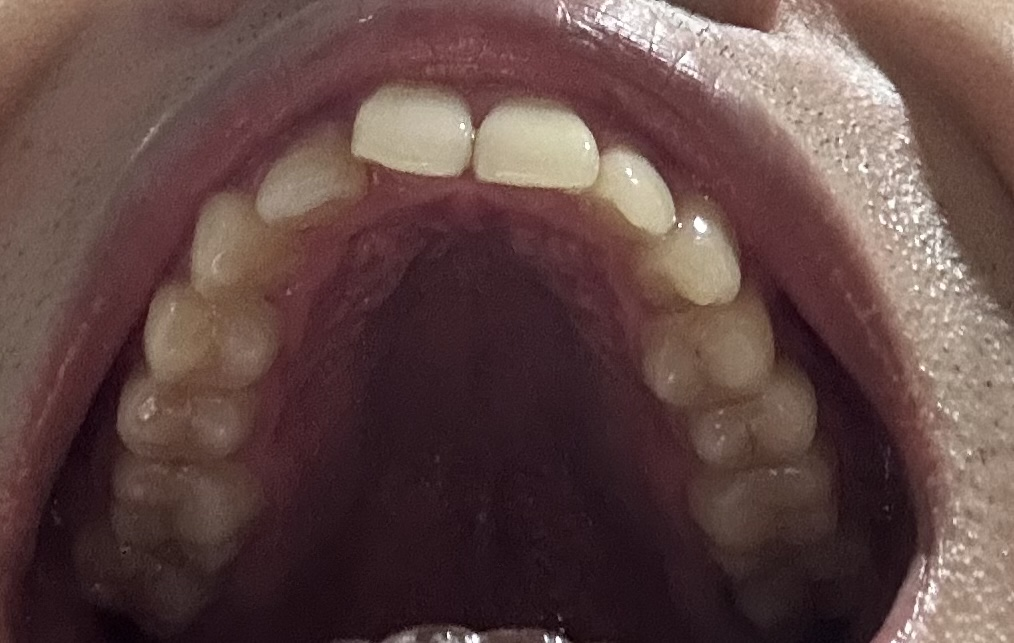teeth: (119, 459, 266, 582), (700, 456, 841, 572), (144, 272, 279, 391), (76, 524, 212, 632), (640, 288, 771, 399), (680, 362, 816, 465), (631, 187, 741, 314), (258, 116, 372, 235), (117, 367, 254, 464), (192, 186, 307, 296), (476, 90, 598, 186), (747, 535, 882, 618), (354, 81, 469, 177), (583, 146, 679, 241)
